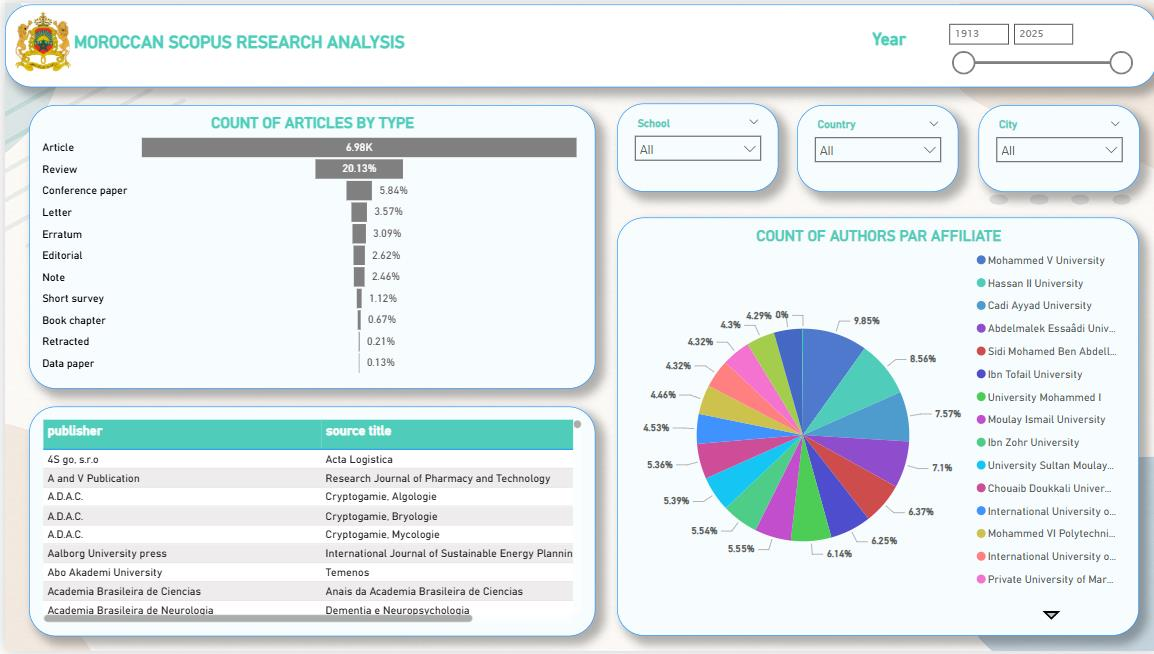

This screenshot's page, from the dashboard's own definition file:
{"tool":"powerbi","page":{"name":"Dashboard6","canvas":[1280,720],"ordinal":5},"visuals":[{"type":"slicer","fields":{"Values":["Affiliation.city"]},"box":[1081,113.4,179.5,96.4],"z":0},{"type":"slicer","fields":{"Values":["Affiliation.country"]},"box":[880.6,113.4,179.5,96.4],"z":1000},{"type":"slicer","fields":{"Values":["Affiliation.school"]},"box":[680.3,111.5,179.5,98.3],"z":2000},{"type":"pieChart","title":"COUNT OF AUTHORS PAR AFFILIATE","fields":{"Category":["Affiliation.university"],"Y":["CountNonNull(Metadata.doc_id)"]},"box":[680.3,238.1,580.2,464.9],"z":3000},{"type":"tableEx","title":"Publisher et source","fields":{"Values":["Journal.publisher","Metadata.source title"]},"box":[26.5,447.9,629.3,255.1],"z":4000},{"type":"funnel","title":"COUNT OF ARTICLES BY TYPE","fields":{"Category":["Document.document type"],"Y":["CountNonNull(Journal.type)"]},"box":[26.5,113.4,629.3,315.6],"z":5000},{"type":"textbox","box":[0,2,1280,92],"z":6000},{"type":"image","box":[0,0,84.5,84.5],"z":7000},{"type":"textbox","box":[71.8,26.5,393.1,41.6],"z":8000},{"type":"textbox","box":[958,24,68,34.7],"z":9000},{"type":"slicer","fields":{"Values":["Metadata.year"]},"box":[1026,3.3,244,86.7],"z":10000}]}

Visuals, with their boxes in screenshot pixels (x1, y1, x2, y2), scaled from the page's 1280x720 canvas onto the 1154x654 screenshot:
slicer - Affiliation.city: region(975, 103, 1136, 191)
slicer - Affiliation.country: region(794, 103, 956, 191)
slicer - Affiliation.school: region(613, 101, 775, 191)
"COUNT OF AUTHORS PAR AFFILIATE" pieChart: region(613, 216, 1136, 639)
"Publisher et source" tableEx: region(24, 407, 591, 639)
"COUNT OF ARTICLES BY TYPE" funnel: region(24, 103, 591, 390)
textbox: region(0, 2, 1153, 85)
image: region(0, 0, 76, 77)
textbox: region(65, 24, 419, 62)
textbox: region(864, 22, 925, 53)
slicer - Metadata.year: region(925, 3, 1145, 82)
